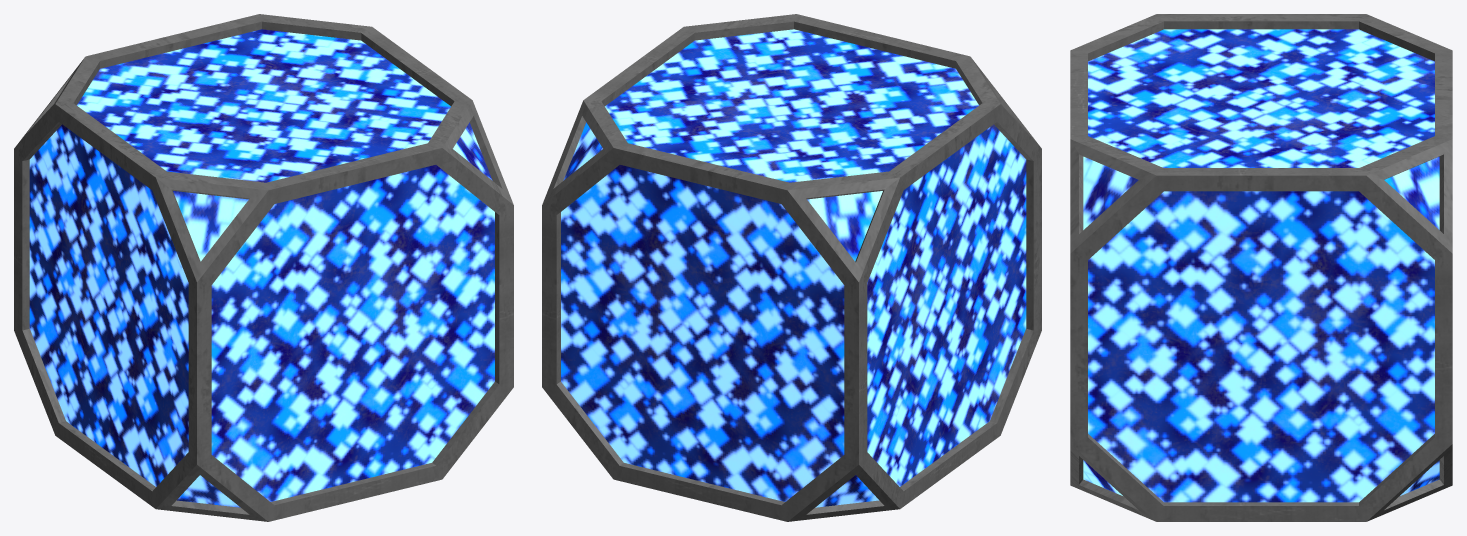
The picture shows the model from 3 angles, left to right: view 1: azimuth 30°, elevation 25°; view 2: azimuth 150°, elevation 25°; view 3: azimuth 270°, elevation 25°; orthographic projection. The views are drawn at different scales.
Visible parts, largest first — view 1: Cube.002; view 2: Cube.002; view 3: Cube.002.
Boxes of the visible parts, x1,y1,x2,y2 form: Cube.002: (14, 14, 513, 521); Cube.002: (542, 14, 1041, 521); Cube.002: (1070, 14, 1452, 521).
Bounding box in the file's own units: 100 × 100 × 100.
Materials: 1 (1 with a texture image).
